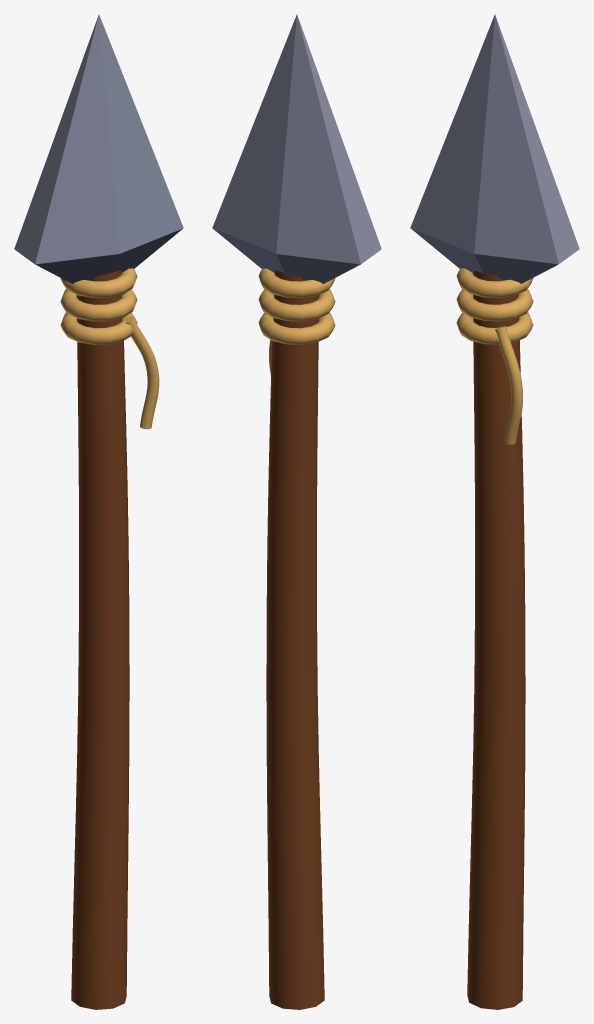
The model's file is spear.glb.
The picture shows the model from 3 angles, left to right: view 1: azimuth 30°, elevation 25°; view 2: azimuth 150°, elevation 25°; view 3: azimuth 330°, elevation 25°; orthographic projection.
Parts seen in each view (by area): view 1: Spear; view 2: Spear; view 3: Spear.
Part boxes in pixels (x1,y1,x2,y2): Spear: (14,14,183,1009); Spear: (212,14,381,1009); Spear: (410,14,579,1009).
Bounding box in the file's own units: 0.866 × 5.48 × 0.42.
